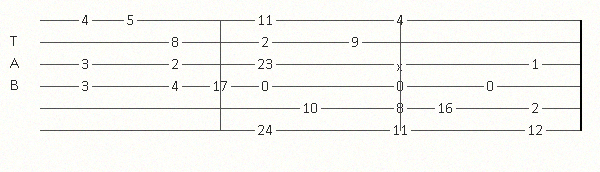0: (261, 79, 273, 93), (396, 79, 408, 93), (486, 79, 498, 93)
1: (531, 57, 543, 71)
10: (302, 101, 322, 115)
11: (257, 13, 277, 27), (392, 123, 412, 137)
12: (527, 123, 547, 137)
16: (437, 101, 457, 115)
17: (212, 79, 232, 93)
2: (171, 57, 183, 71), (261, 35, 273, 49), (531, 101, 543, 115)
23: (257, 57, 277, 71)
24: (257, 123, 277, 137)
3: (81, 57, 93, 71), (81, 79, 93, 93)
4: (81, 13, 93, 27), (171, 79, 183, 93), (396, 13, 408, 27)
5: (126, 13, 138, 27)
8: (171, 35, 183, 49), (396, 101, 408, 115)
9: (351, 35, 363, 49)
x: (396, 59, 407, 70)
